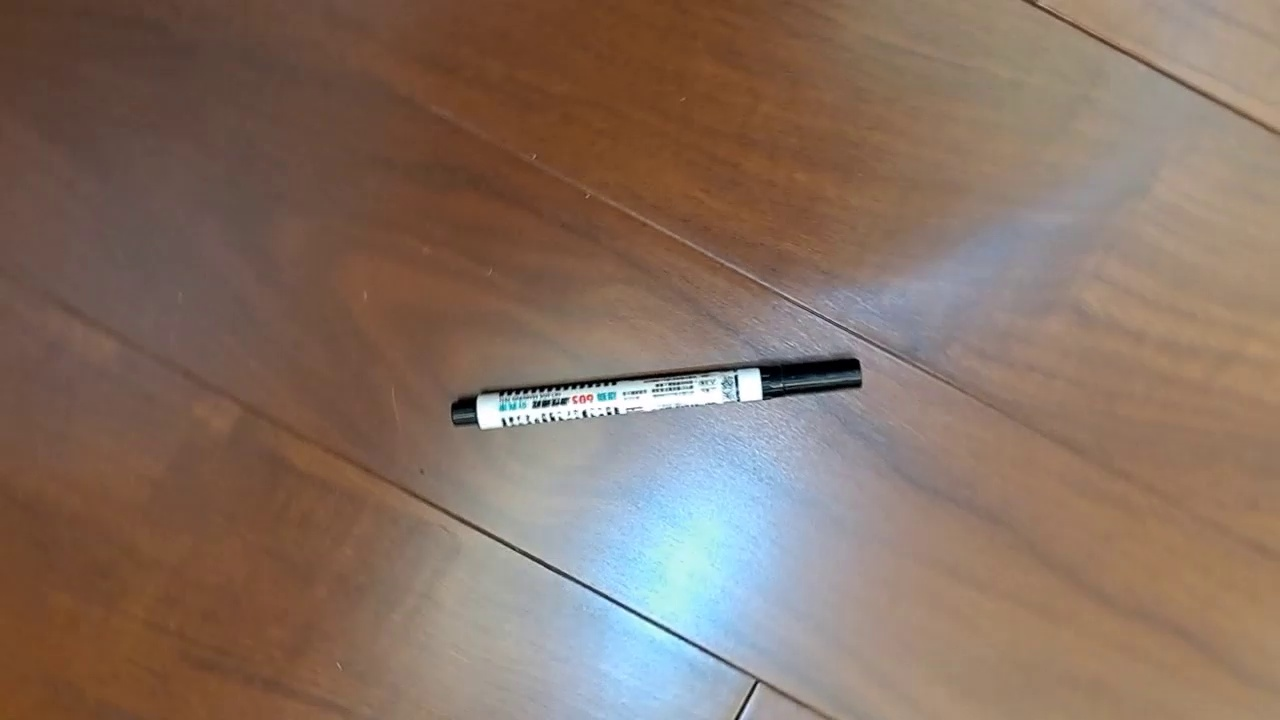pen: (450, 354, 865, 432)
